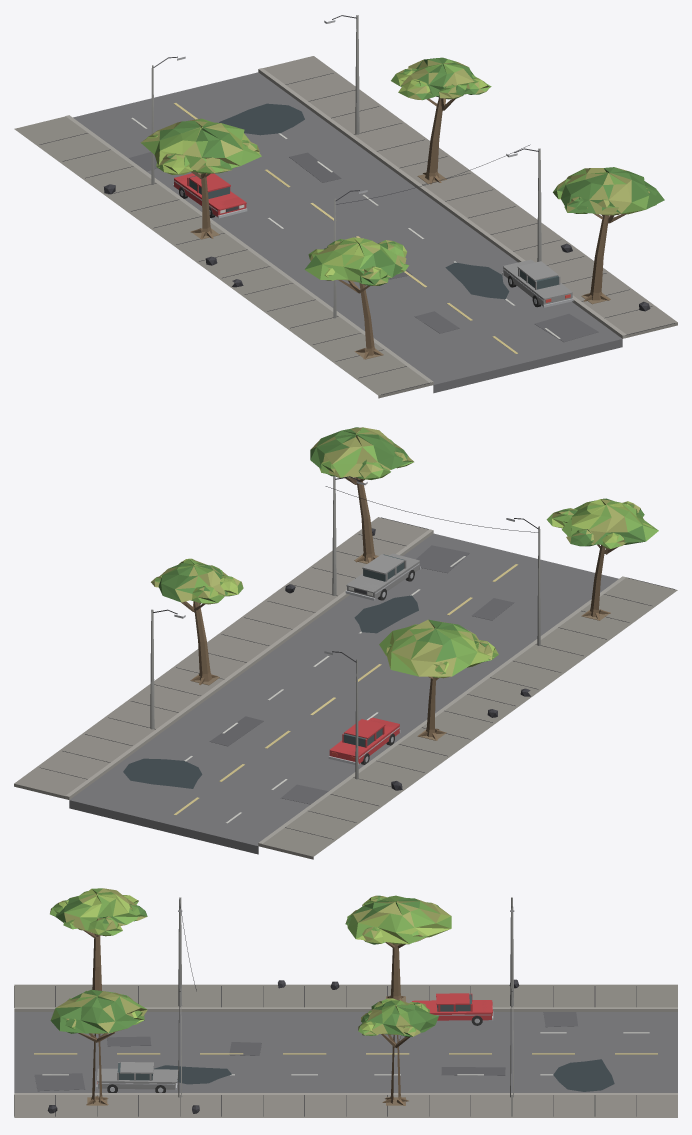
The model's file is street.glb.
The picture shows the model from 3 angles, top to bottom: view 1: azimuth 30°, elevation 25°; view 2: azimuth 150°, elevation 25°; view 3: azimuth 270°, elevation 25°; orthographic projection. The views are drawn at different scales.
Visible parts, largest first — view 1: street_a; view 2: street_a; view 3: street_a.
Boxes of the visible parts, bbox=[...] form: street_a: bbox=[14, 15, 677, 398]; street_a: bbox=[14, 427, 677, 859]; street_a: bbox=[14, 888, 677, 1117].
Size of the model in its own units: 21.42 by 8.13 by 40.01.
